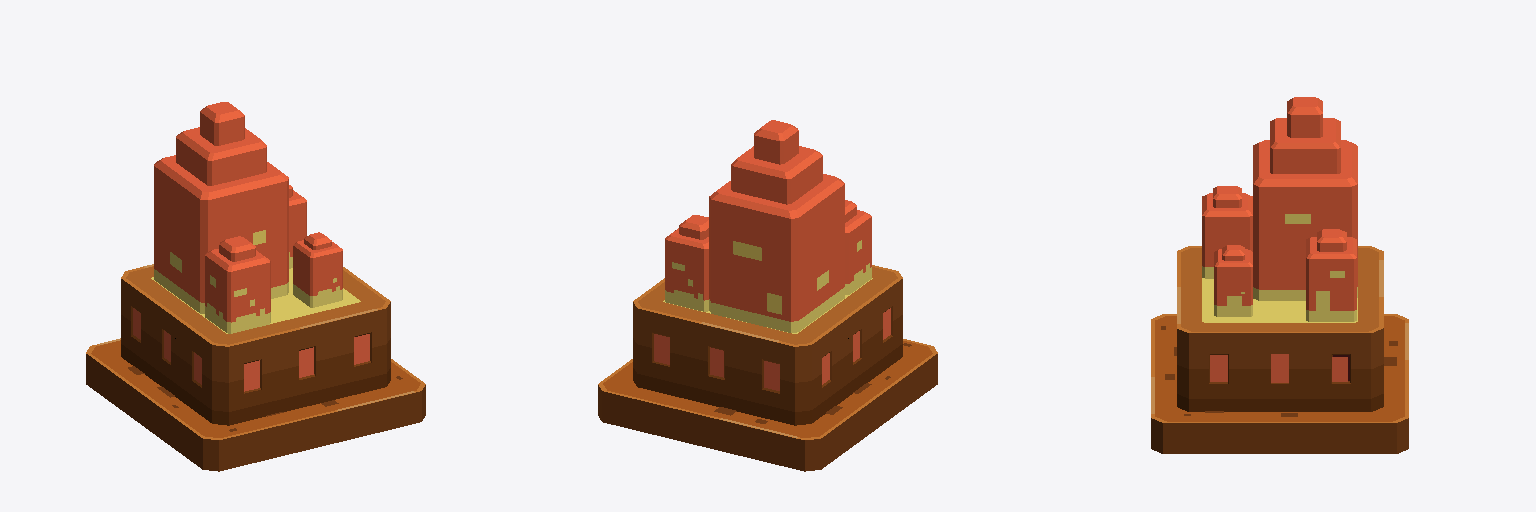
3 views of the same model, side by side, from view 1: azimuth 30°, elevation 25°; view 2: azimuth 150°, elevation 25°; view 3: azimuth 270°, elevation 25° (orthographic).
Parts seen in each view (by area): view 1: pvpd_BlazingBonfire_02; view 2: pvpd_BlazingBonfire_02; view 3: pvpd_BlazingBonfire_02.
Boxes of the visible parts, x1,y1,x2,y2 form: pvpd_BlazingBonfire_02: [86, 102, 425, 471]; pvpd_BlazingBonfire_02: [598, 120, 937, 471]; pvpd_BlazingBonfire_02: [1151, 97, 1408, 453].
Bounding box in the file's own units: 3 × 3.69 × 3.
Materials: 1 (1 with a texture image).